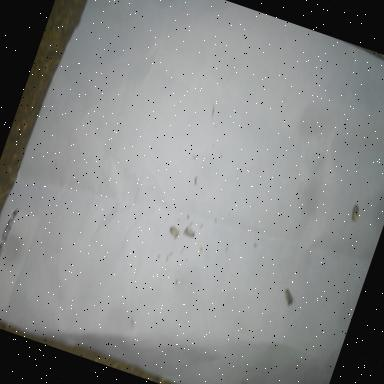pbw: (343, 201, 364, 225), (278, 287, 298, 310), (180, 219, 201, 240), (164, 224, 183, 242)
